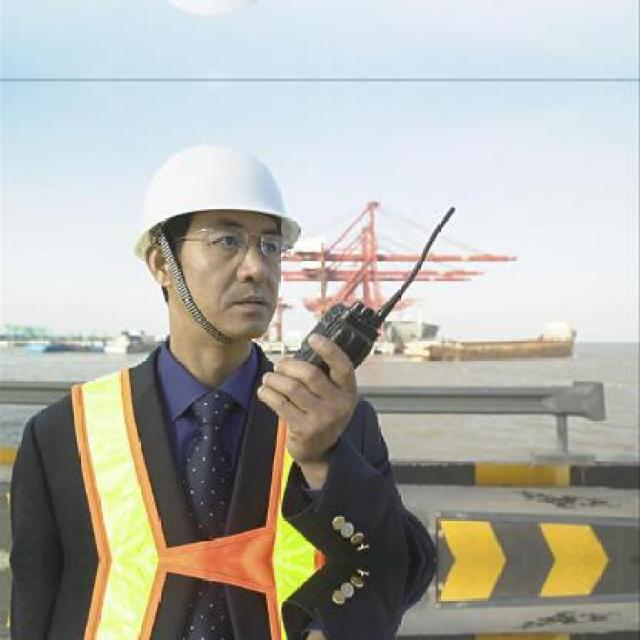Reflective-Jacket: (31, 344, 375, 638)
Safety-Helmet: (126, 136, 309, 256), (296, 626, 338, 640)
